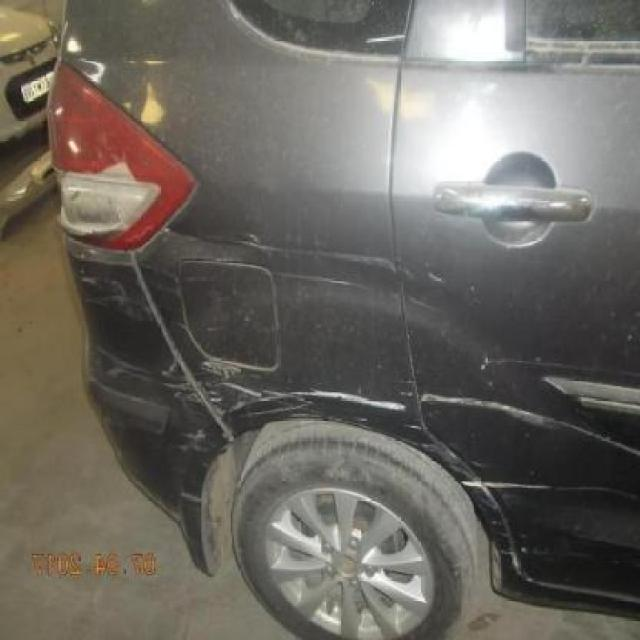damage: (128, 254, 236, 445), (146, 247, 437, 314), (152, 224, 452, 288), (416, 386, 638, 461), (195, 354, 406, 419), (53, 144, 159, 244), (477, 347, 636, 381), (457, 476, 636, 506), (394, 419, 474, 479), (78, 271, 132, 313), (103, 355, 156, 388), (166, 424, 210, 459), (175, 487, 202, 507)
